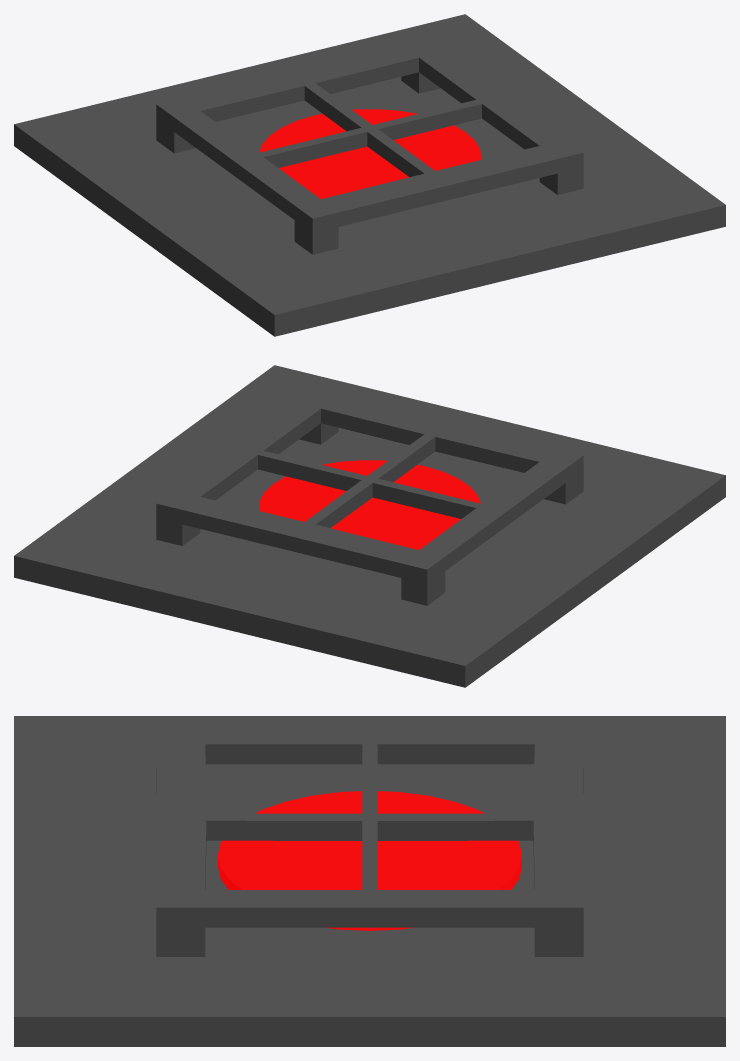
The model's file is stove.glb.
3 renders of one model, top to bottom at view 1: azimuth 30°, elevation 25°; view 2: azimuth 150°, elevation 25°; view 3: azimuth 270°, elevation 25°, orthographic. The views are drawn at different scales.
Parts seen in each view (by area): view 1: Cube.001; view 2: Cube.001; view 3: Cube.001.
Boxes of the visible parts, x1,y1,x2,y2 form: Cube.001: [14, 14, 725, 336]; Cube.001: [14, 365, 725, 687]; Cube.001: [14, 716, 725, 1046].
Size of the model in its own units: 2 by 0.2453 by 2.
